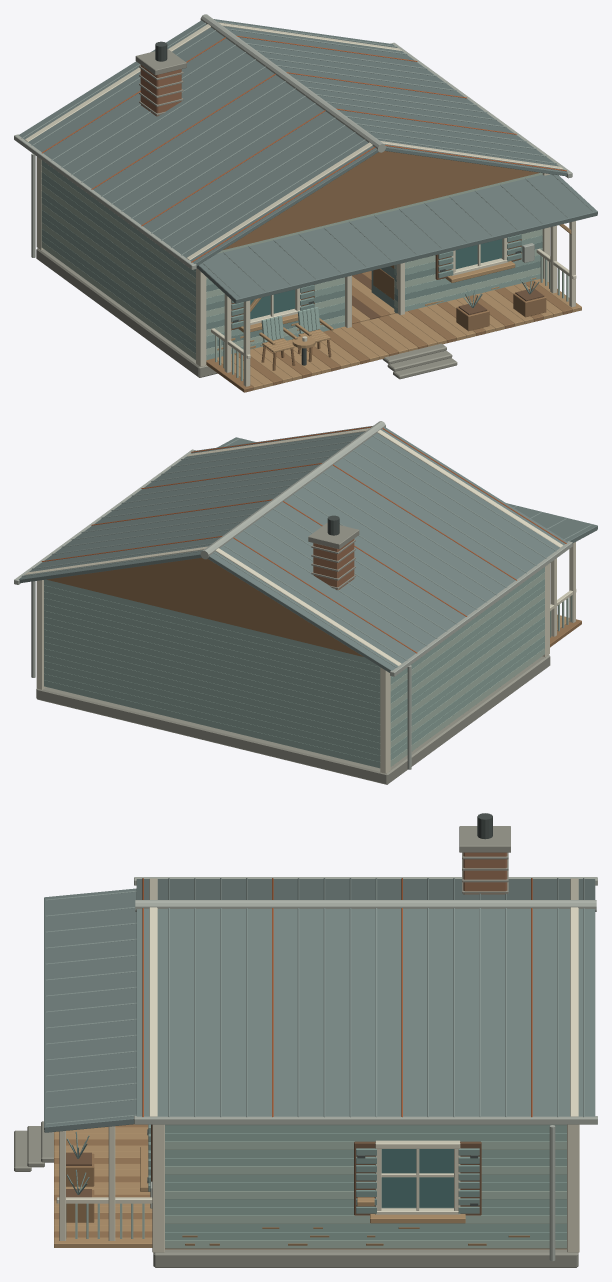
The model's file is roadstead_cottage.glb.
The picture shows the model from 3 angles, top to bottom: view 1: azimuth 30°, elevation 25°; view 2: azimuth 150°, elevation 25°; view 3: azimuth 270°, elevation 25°; orthographic projection. The views are drawn at different scales.
Visible parts, largest first — view 1: Roof_roadstead_cottage, Body_roadstead_cottage; view 2: Roof_roadstead_cottage, Body_roadstead_cottage; view 3: Roof_roadstead_cottage, Body_roadstead_cottage.
Part boxes in pixels (x1,y1,x2,y2): Roof_roadstead_cottage: [14, 14, 597, 303]; Body_roadstead_cottage: [31, 153, 581, 392]; Roof_roadstead_cottage: [14, 421, 597, 676]; Body_roadstead_cottage: [31, 542, 581, 784]; Roof_roadstead_cottage: [44, 813, 597, 1132]; Body_roadstead_cottage: [14, 1121, 579, 1267].
Size of the model in its own units: 11.04 by 6.08 by 11.26.
